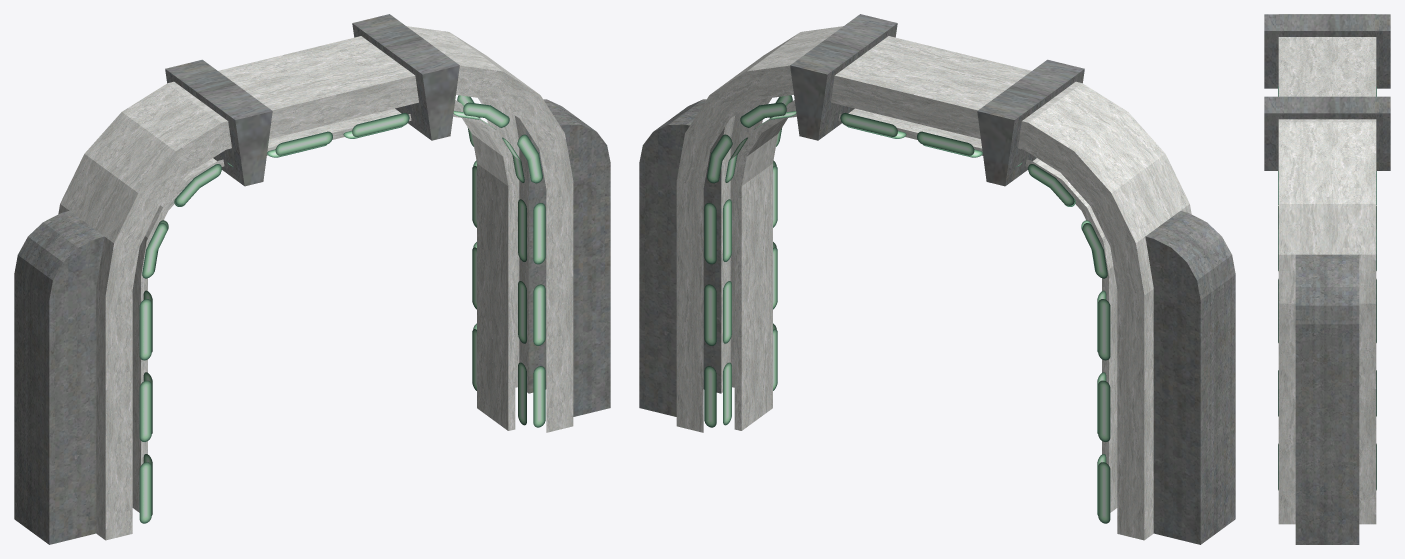
Rendered from thm_corl_imprv_arch_lg_s01_l0.fbx.
The picture shows the model from 3 angles, left to right: view 1: azimuth 30°, elevation 25°; view 2: azimuth 150°, elevation 25°; view 3: azimuth 270°, elevation 25°; orthographic projection. The views are drawn at different scales.
Parts seen in each view (by area): view 1: mesh_node; view 2: mesh_node; view 3: mesh_node.
Boxes of the visible parts, x1,y1,x2,y2 form: mesh_node: [14, 14, 610, 544]; mesh_node: [639, 14, 1235, 544]; mesh_node: [1264, 14, 1390, 544].
Size of the model in its own units: 12 by 8.1 by 2.6.
